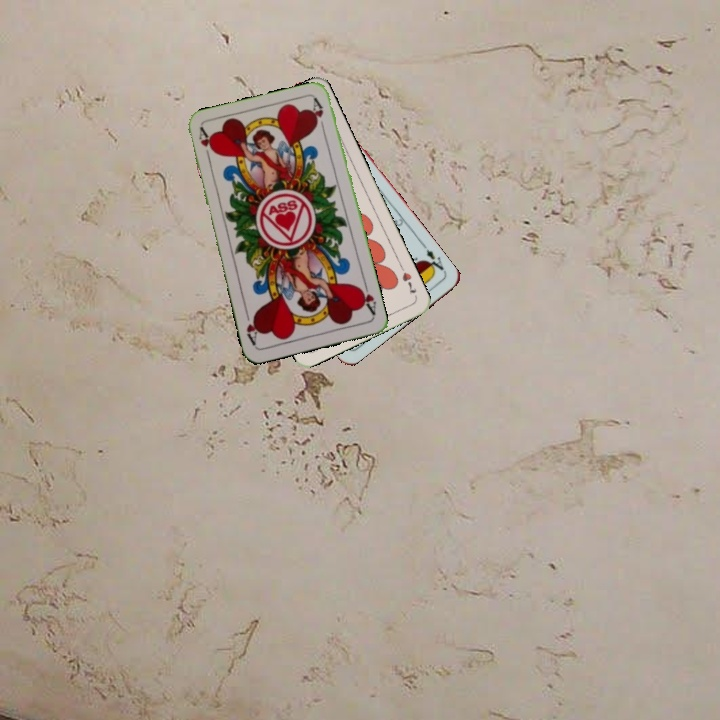EA: (419, 240, 448, 276)
H7: (396, 261, 419, 296)
HA: (354, 278, 379, 318), (195, 124, 217, 165)
